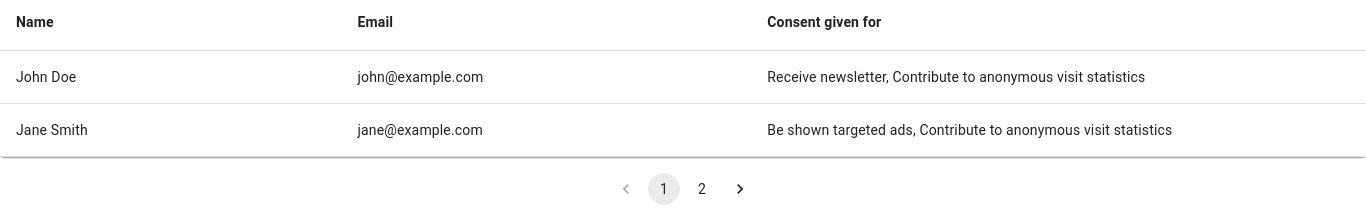
Test: ConsentList › should handle pagination and display correct data
Check: the text "John Doe" is shown, box top-left (0, 50), bottom-right (342, 104)
Check: the text "Jane Smith" is shown, box top-left (0, 104), bottom-right (342, 156)
# Move to the next page
Click the button named "Go to page 2" at (702, 189), box top-left (686, 173), bottom-right (718, 205)
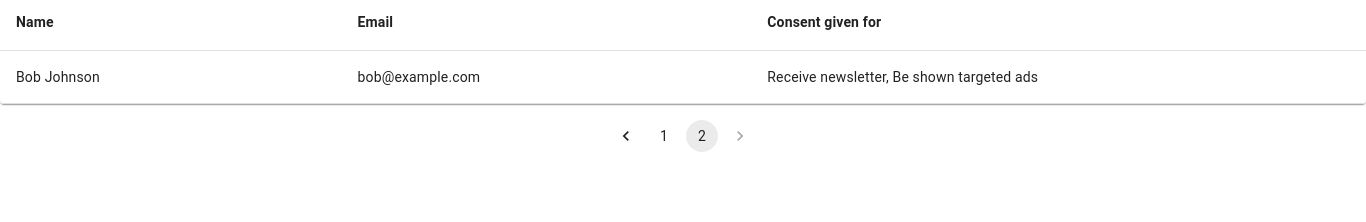
Check: the text "John Doe" is gone
Check: the text "Jane Smith" is gone
Check: the text "Bob Johnson" is shown, box top-left (0, 50), bottom-right (342, 104)
